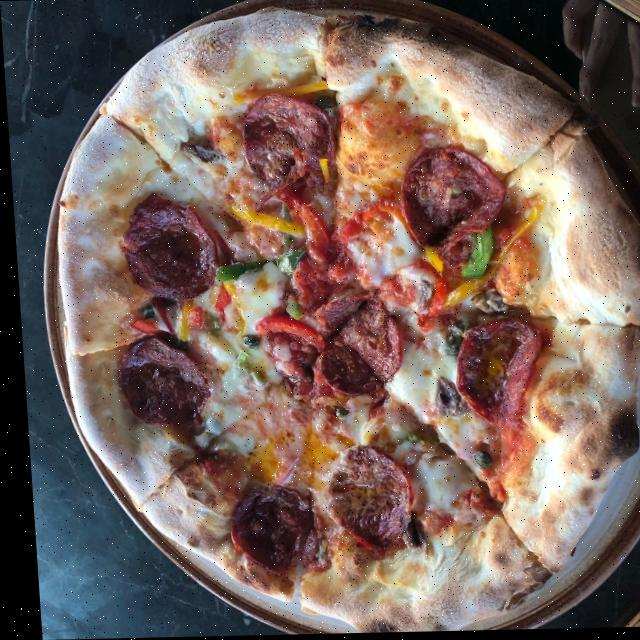pepperoni: (115, 193, 217, 301), (398, 147, 505, 247), (448, 319, 541, 431), (314, 445, 408, 553), (112, 335, 205, 426), (222, 485, 308, 577), (334, 298, 398, 383), (307, 346, 374, 397), (299, 289, 366, 339)
pizza: (41, 4, 640, 639)
